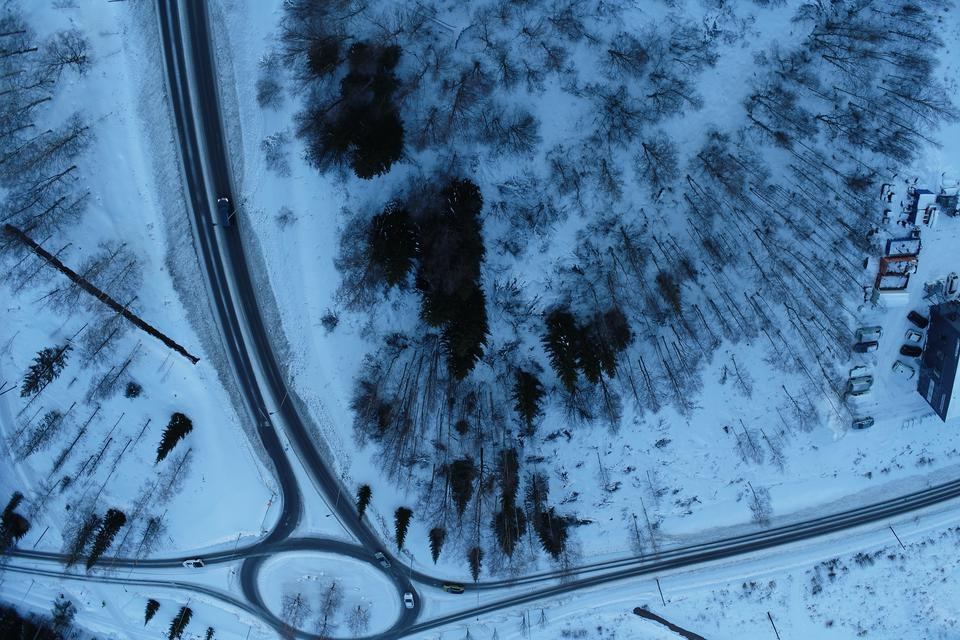roundabout: (199, 525, 461, 640)
